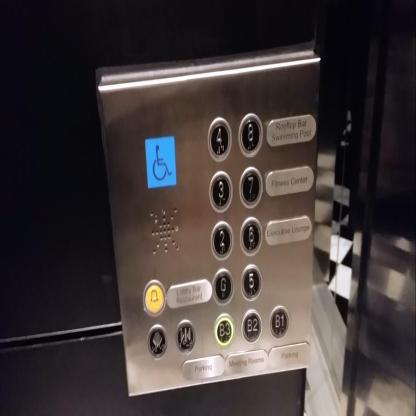2: (210, 221, 234, 261)
3: (208, 170, 232, 213)
4: (207, 117, 232, 164)
5: (240, 264, 262, 302)
6: (238, 217, 262, 257)
7: (238, 166, 263, 209)
8: (237, 112, 263, 157)
B1: (268, 305, 290, 340)
B2: (240, 309, 262, 343)
B3: (213, 314, 235, 346)
CH: (144, 135, 176, 190)
G: (211, 266, 234, 305)
alarm: (142, 280, 165, 317)
close: (175, 319, 196, 353)
open: (146, 324, 168, 361)
